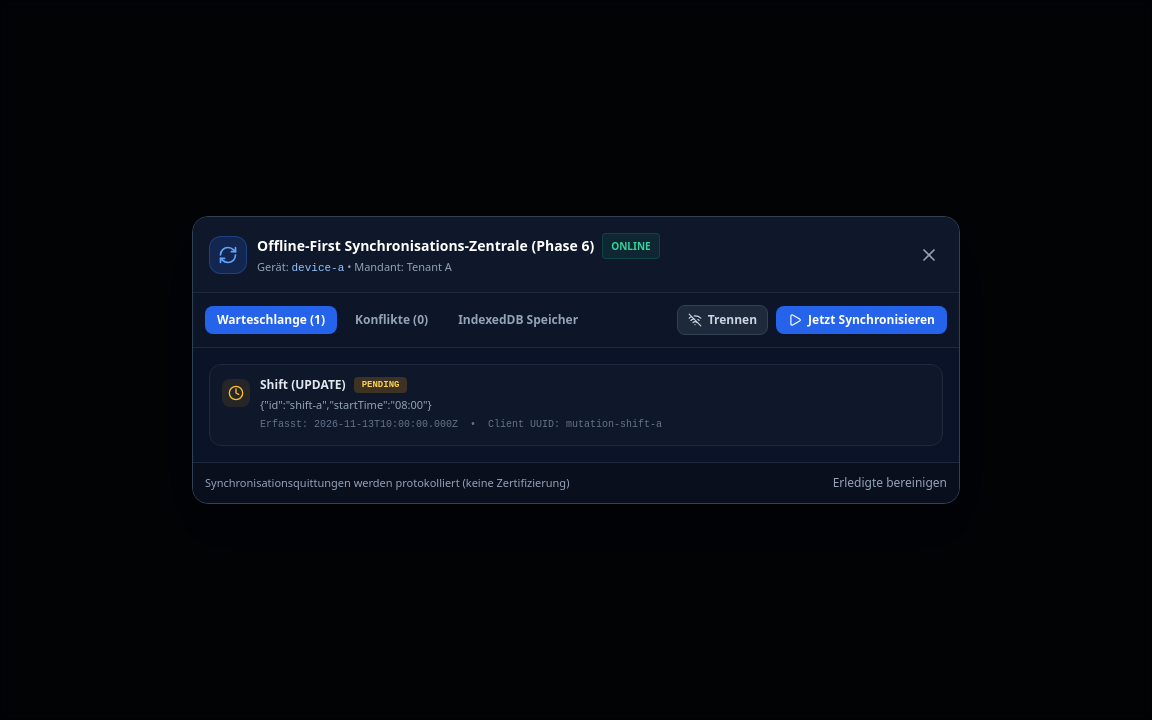
Test case: SyncManagerModal shift conflict snapshots › surfaces an explicit storage error result instead of treating zero sync counts as success
Click the button "Jetzt Synchronisieren" at (862, 320), box [776,306,947,334]
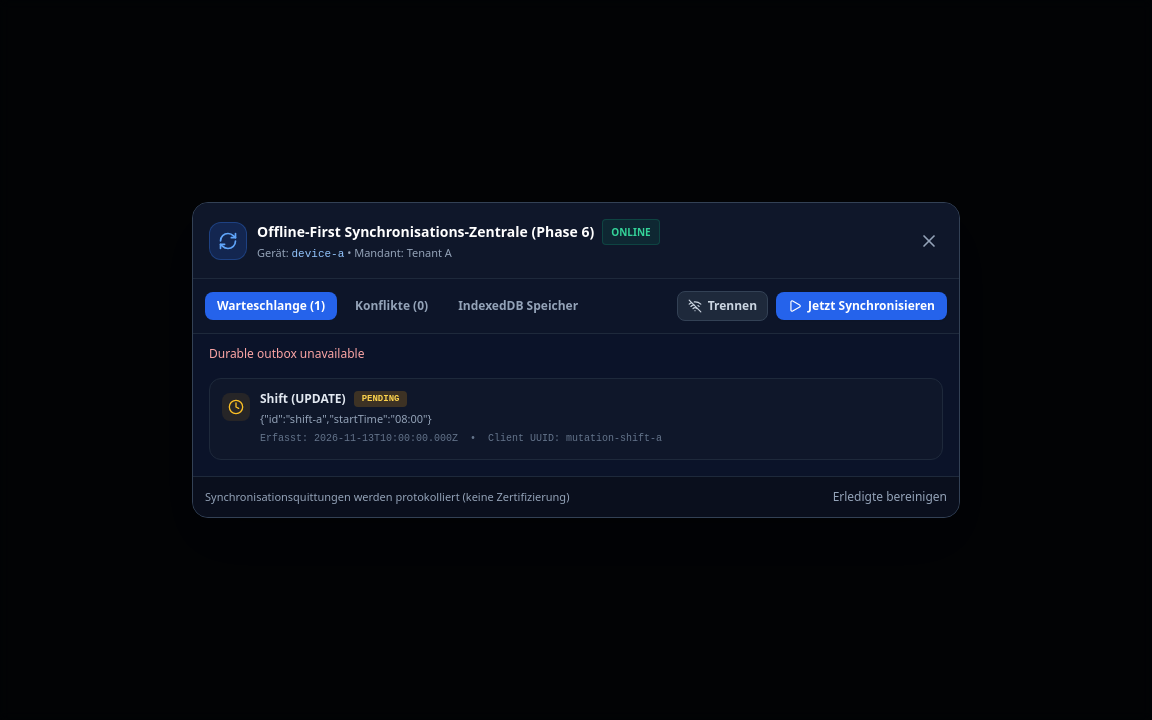
Expected: the message "Durable outbox unavailable" is shown, [209,345,364,362]
